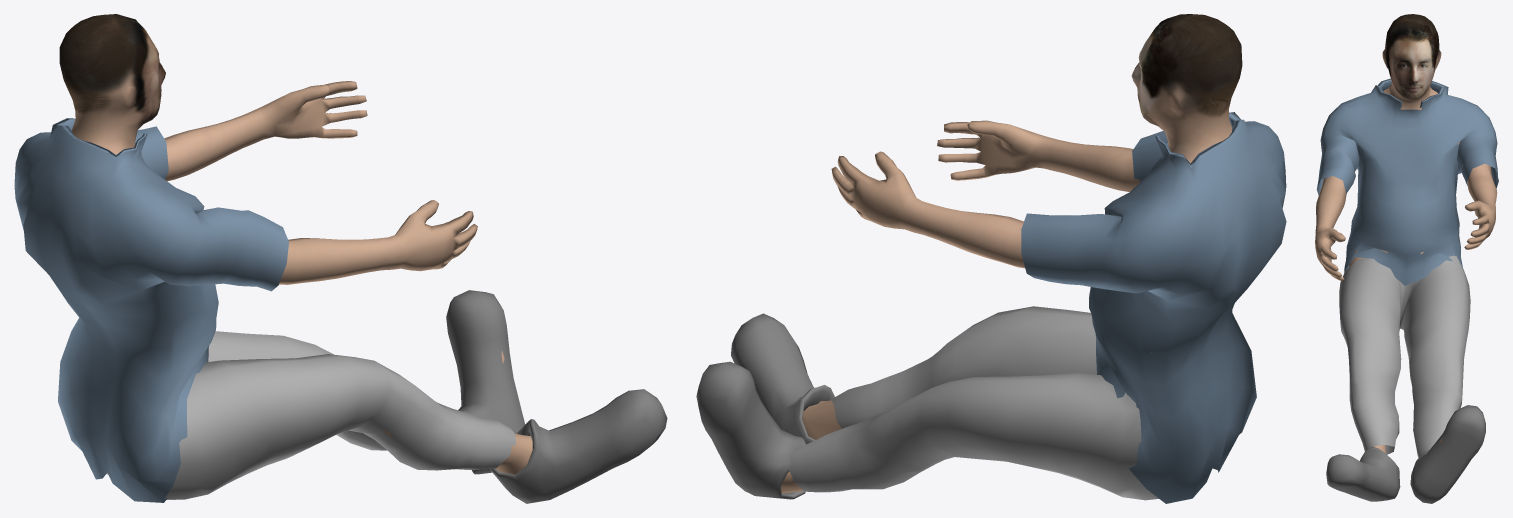
File: andy.fbx
3 renders of one model, left to right at view 1: azimuth 30°, elevation 25°; view 2: azimuth 150°, elevation 25°; view 3: azimuth 270°, elevation 25°, orthographic. The views are drawn at different scales.
Parts seen in each view (by area): view 1: Shirt2, Pants2, Andy, pCube2; view 2: Shirt2, Pants2, Andy, pCube2; view 3: Shirt2, Pants2, Andy, pCube2.
Boxes of the visible parts, bbox=[...] form: Shirt2: bbox=[14, 118, 288, 502]; Pants2: bbox=[106, 331, 516, 499]; Andy: bbox=[59, 14, 532, 474]; pCube2: bbox=[446, 290, 667, 503]; Shirt2: bbox=[1021, 112, 1286, 503]; Pants2: bbox=[788, 306, 1158, 500]; Andy: bbox=[755, 14, 1242, 493]; pCube2: bbox=[696, 313, 834, 499]; Shirt2: bbox=[1316, 78, 1498, 285]; Pants2: bbox=[1339, 255, 1470, 457]; Andy: bbox=[1315, 14, 1497, 479]; pCube2: bbox=[1326, 405, 1485, 503].
Size of the model in its own units: 93.36 by 88.4 by 41.
4 materials, 1 textured.
